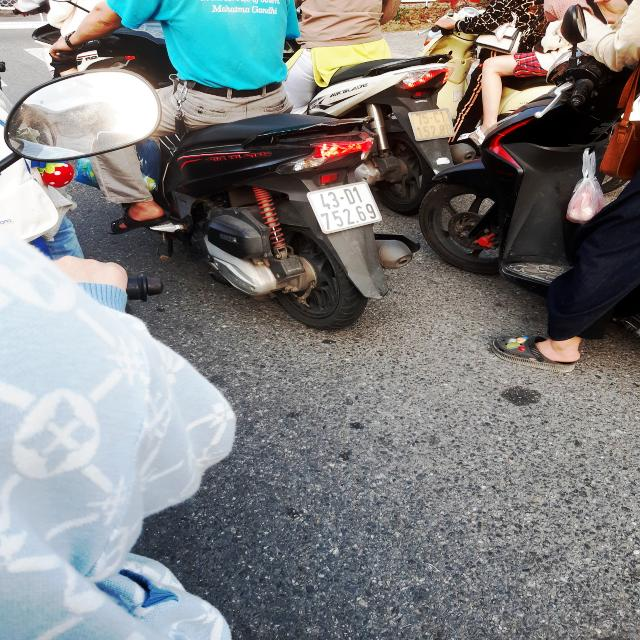license_plate: (306, 183, 385, 234)
